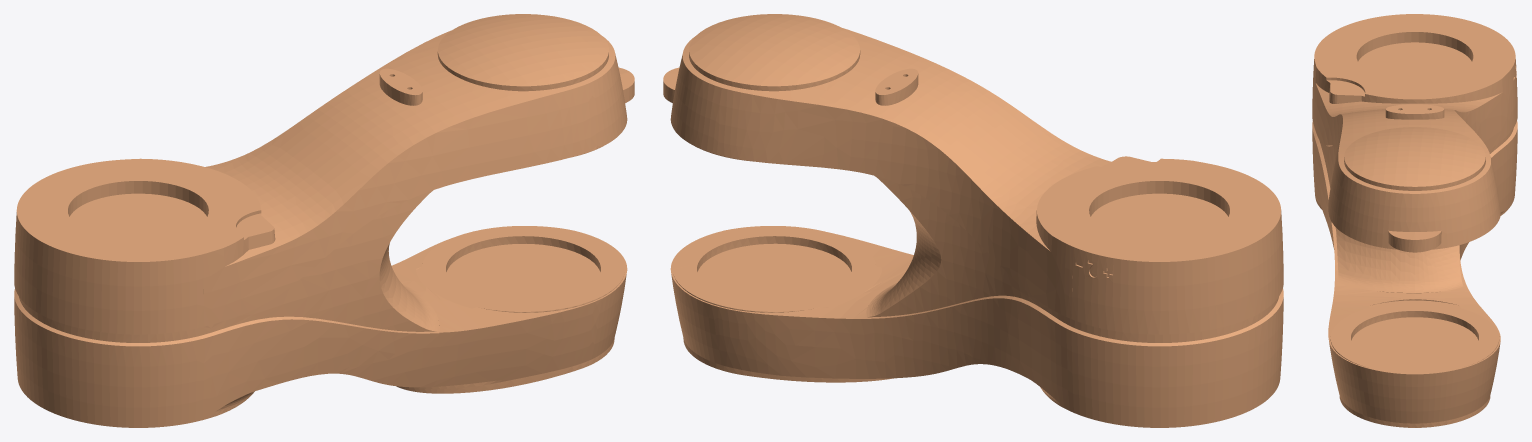
3 views of the same model, side by side, from view 1: azimuth 30°, elevation 25°; view 2: azimuth 150°, elevation 25°; view 3: azimuth 270°, elevation 25° (orthographic). The views are drawn at different scales.
Parts seen in each view (by area): view 1: /link_2/link_2_001-mesh/0; view 2: /link_2/link_2_001-mesh/0; view 3: /link_2/link_2_001-mesh/0.
Boxes of the visible parts, x1,y1,x2,y2 form: /link_2/link_2_001-mesh/0: (14,14,634,427); /link_2/link_2_001-mesh/0: (663,14,1283,427); /link_2/link_2_001-mesh/0: (1312,14,1517,427).
Size of the model in its own units: 0.4905 by 0.2489 by 0.176.
